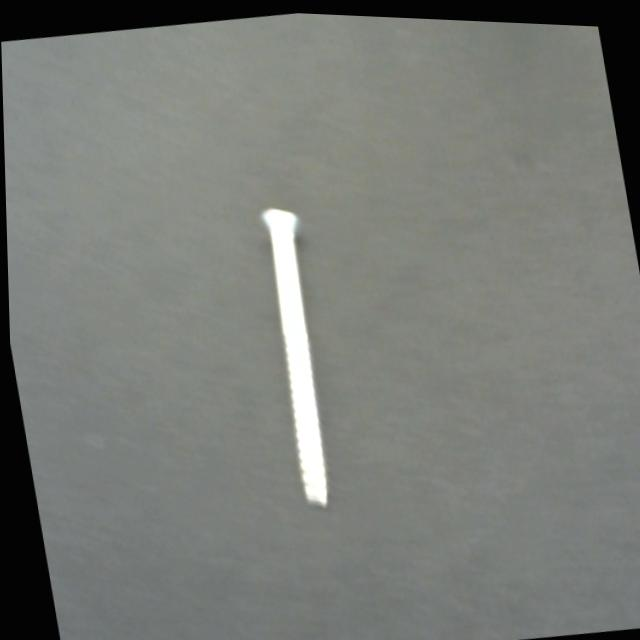WoodScrew: (242, 177, 359, 528)
